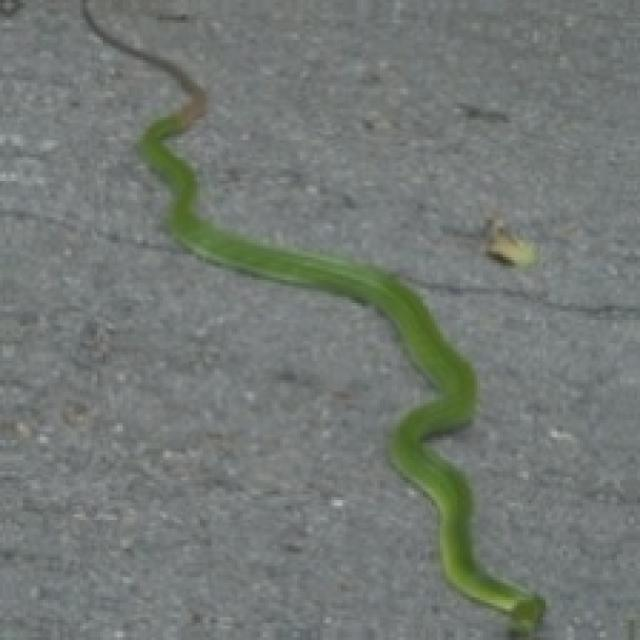red-tailed green ratsnake: (83, 0, 543, 637)
